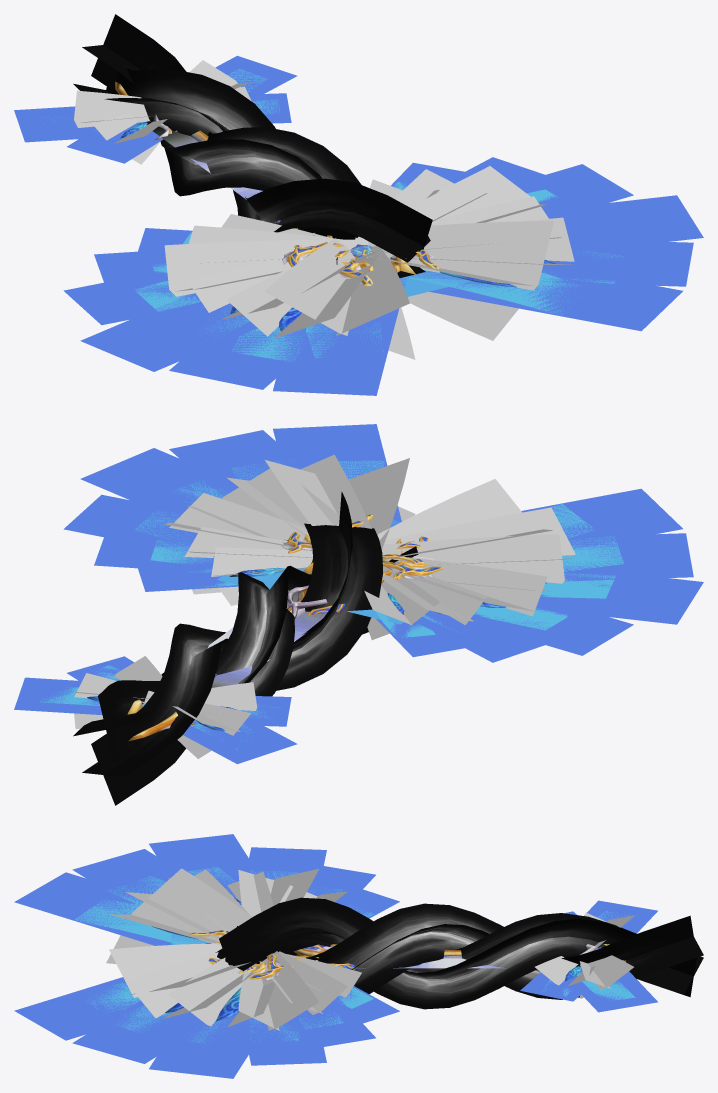
3 renders of one model, top to bottom at view 1: azimuth 30°, elevation 25°; view 2: azimuth 150°, elevation 25°; view 3: azimuth 270°, elevation 25°, orthographic. The views are drawn at different scales.
Parts seen in each view (by area): view 1: object0266_Plane04, object0276_Plane01, object0396_Plane55, object0284_Plane23, object0305_Plane21, object0337_Plane06, object0343_Plane10, object0346_Plane09, object0308_Plane20, object0609_Plane97, object0615_Plane99, object0302_Plane22 (+28 smaller); view 2: object0266_Plane04, object0276_Plane01, object0343_Plane10, object0284_Plane23, object0579_Plane87, object0308_Plane20, object0337_Plane06, object0305_Plane21, object0340_Plane11, object0346_Plane09, object0302_Plane22, object0311_Plane19 (+35 smaller); view 3: object0266_Plane04, object0276_Plane01, object0343_Plane10, object0609_Plane97, object0284_Plane23, object0337_Plane06, object0346_Plane09, object0340_Plane11, object0305_Plane21, object0308_Plane20, object0570_Plane84, object0567_Plane83 (+33 smaller).
Boxes of the visible parts, left/top/right/bottom form: object0266_Plane04: left=73, top=68, right=432, bottom=262; object0276_Plane01: left=82, top=14, right=361, bottom=264; object0396_Plane55: left=368, top=221, right=553, bottom=340; object0284_Plane23: left=273, top=276, right=407, bottom=395; object0305_Plane21: left=80, top=293, right=257, bottom=371; object0337_Plane06: left=426, top=265, right=682, bottom=331; object0343_Plane10: left=543, top=195, right=703, bottom=252; object0346_Plane09: left=404, top=242, right=693, bottom=286; object0308_Plane20: left=169, top=323, right=331, bottom=389; object0609_Plane97: left=264, top=238, right=415, bottom=359; object0615_Plane99: left=164, top=239, right=362, bottom=296; object0302_Plane22: left=63, top=273, right=202, bottom=325; object0266_Plane04: left=82, top=491, right=383, bottom=805; object0276_Plane01: left=73, top=546, right=418, bottom=763; object0343_Plane10: left=80, top=448, right=238, bottom=518; object0284_Plane23: left=521, top=488, right=682, bottom=549; object0579_Plane87: left=381, top=534, right=564, bottom=583; object0308_Plane20: left=563, top=533, right=693, bottom=581; object0337_Plane06: left=273, top=424, right=401, bottom=527; object0305_Plane21: left=540, top=568, right=703, bottom=624; object0340_Plane11: left=63, top=494, right=305, bottom=569; object0346_Plane09: left=169, top=430, right=303, bottom=495; object0302_Plane22: left=429, top=597, right=633, bottom=655; object0311_Plane19: left=416, top=611, right=549, bottom=662; object0266_Plane04: left=215, top=897, right=703, bottom=1009; object0276_Plane01: left=237, top=903, right=703, bottom=999; object0343_Plane10: left=149, top=1012, right=267, bottom=1078; object0609_Plane97: left=106, top=868, right=252, bottom=963; object0284_Plane23: left=14, top=872, right=171, bottom=945; object0337_Plane06: left=14, top=977, right=140, bottom=1040; object0346_Plane09: left=72, top=1000, right=203, bottom=1063; object0340_Plane11: left=242, top=1010, right=326, bottom=1065; object0305_Plane21: left=149, top=834, right=254, bottom=899; object0308_Plane20: left=72, top=849, right=178, bottom=904; object0570_Plane84: left=109, top=943, right=222, bottom=997; object0567_Plane83: left=125, top=952, right=218, bottom=1018.
Size of the model in its own units: 2.9 by 0.6034 by 3.46.
